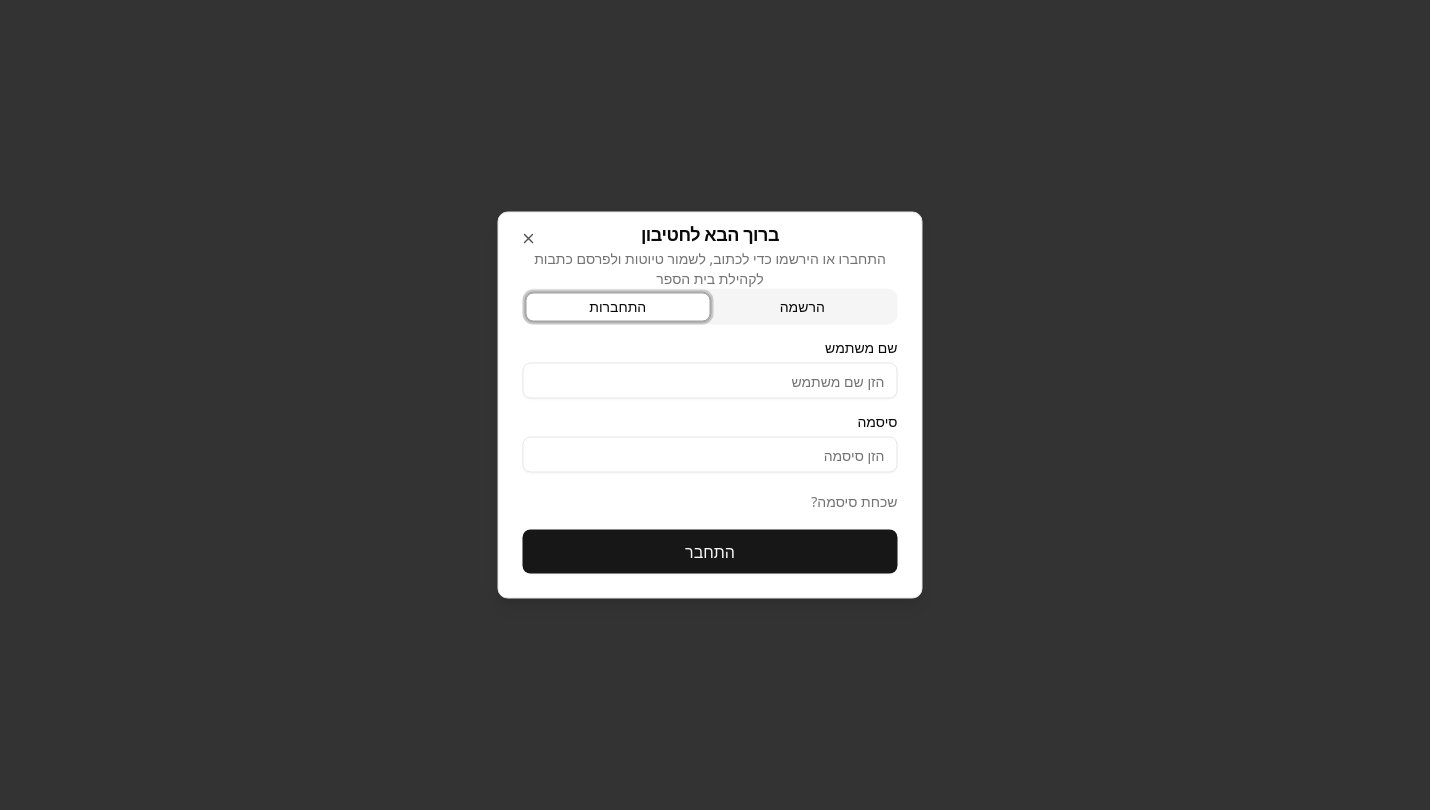
Scenario: AuthDialog mobile layout › switches from login to registration inside the dialog
Click the tab "הרשמה": point(802, 306) [710, 292, 894, 321]
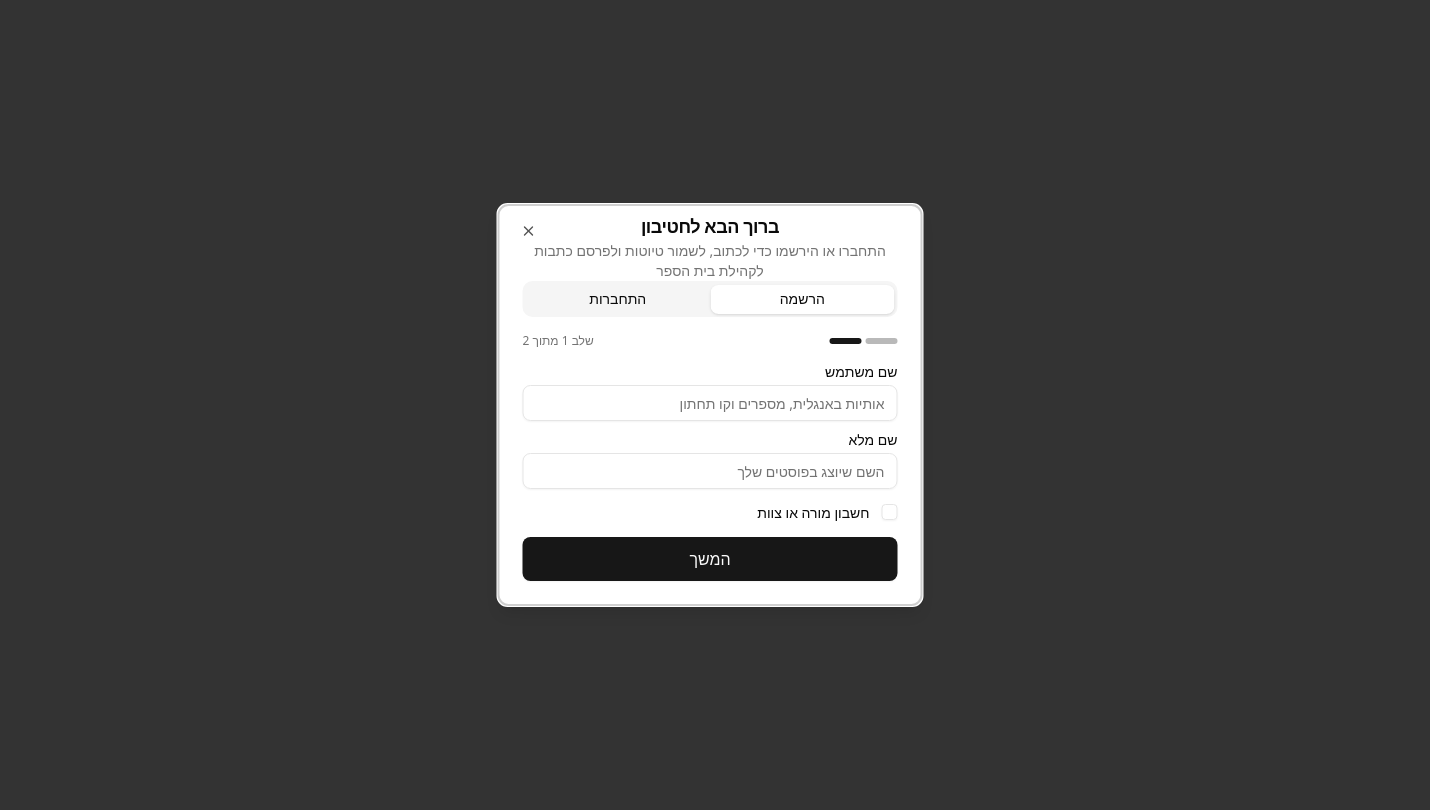
Expected: the field labelled "שם מלא" is shown, [522, 453, 898, 489]
Expected: the text "שלב 1 מתוך 2" is shown, [522, 333, 594, 349]
Expected: the button "המשך" is shown, [522, 537, 898, 581]
